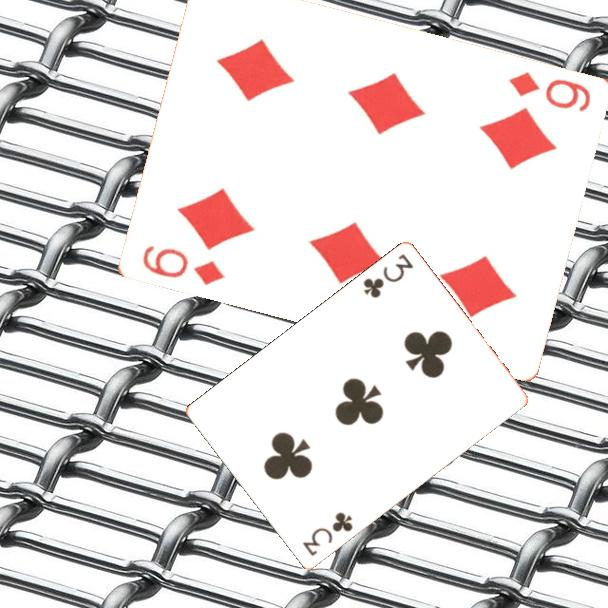c03: (359, 250, 416, 302), (299, 509, 356, 560)
d06: (139, 241, 229, 288), (506, 68, 594, 114)
